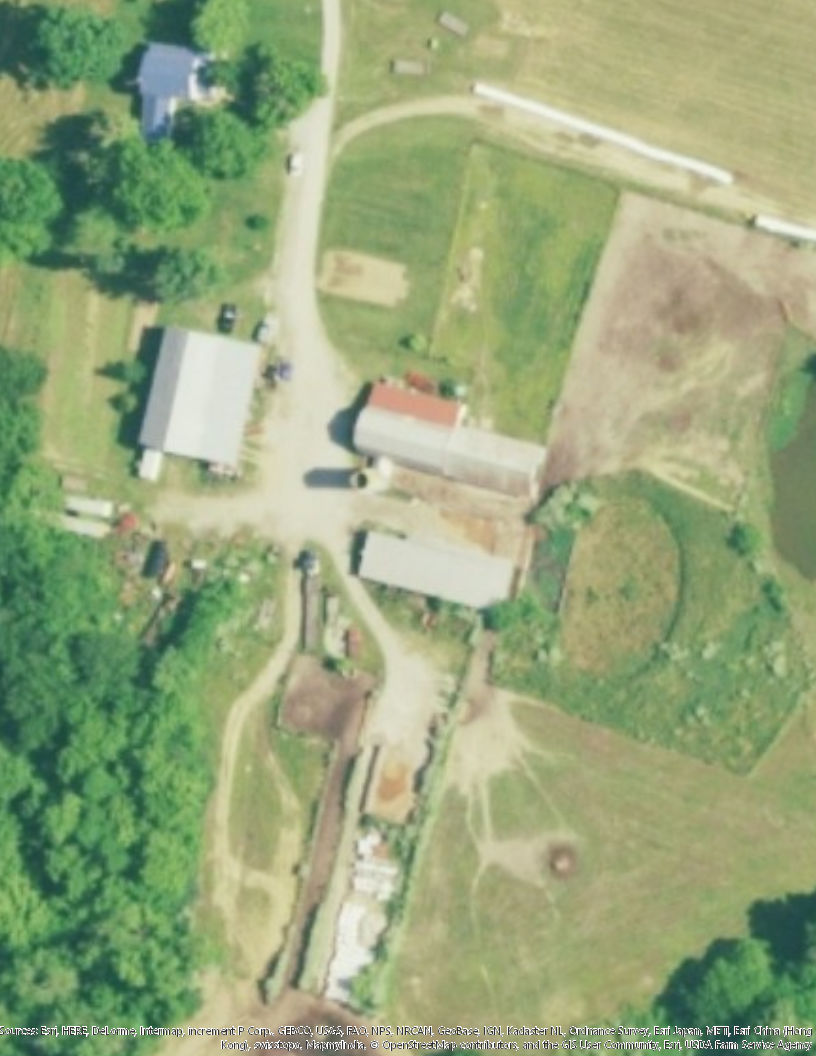cafo: (348, 374, 552, 507), (349, 526, 524, 619)
